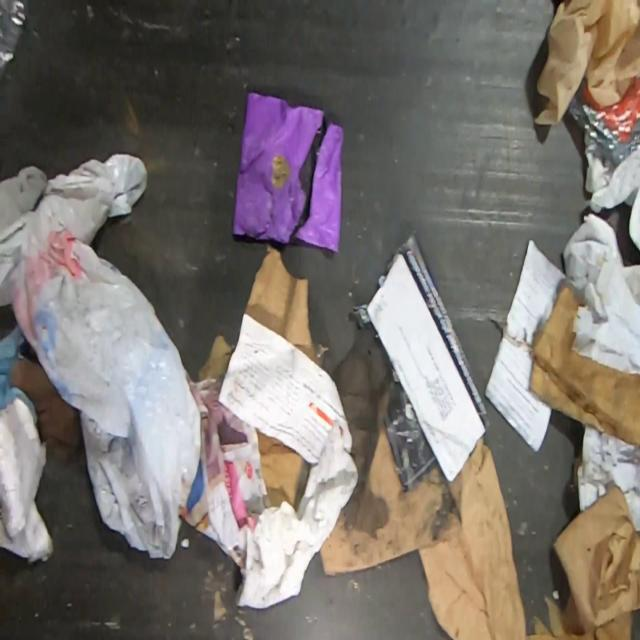cardboard: (318, 319, 640, 640), (528, 282, 640, 448), (242, 243, 330, 370), (256, 426, 304, 509), (197, 334, 236, 380)
soft_plastic: (0, 151, 202, 560), (534, 0, 640, 127), (568, 77, 640, 253), (0, 0, 26, 76)
